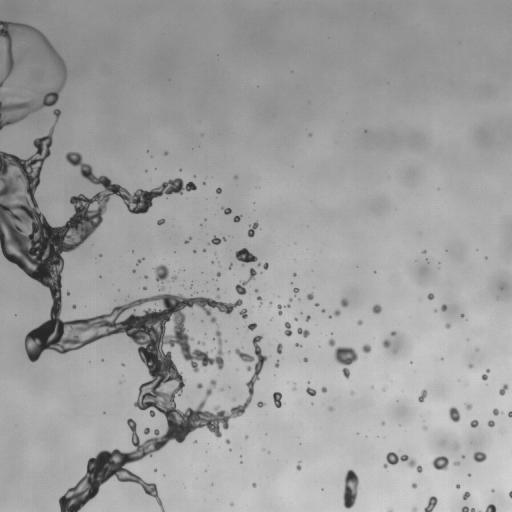droplet: (0, 20, 66, 129), (334, 346, 358, 378), (153, 264, 176, 282), (235, 248, 257, 265), (432, 456, 449, 470), (424, 496, 437, 511), (449, 406, 460, 422), (473, 451, 487, 462), (210, 236, 226, 245), (273, 392, 282, 407), (284, 321, 292, 336), (297, 327, 309, 337), (418, 389, 427, 402), (499, 384, 508, 395), (372, 304, 381, 314), (306, 387, 316, 396), (362, 344, 371, 353), (239, 308, 247, 318), (246, 323, 257, 330), (485, 504, 496, 511), (233, 214, 242, 222), (340, 298, 348, 307), (382, 339, 390, 348), (221, 207, 231, 214), (470, 419, 478, 427), (462, 491, 469, 500), (276, 343, 282, 353), (306, 292, 313, 300), (328, 339, 335, 346), (465, 403, 472, 410), (493, 408, 500, 415), (487, 420, 494, 427), (157, 219, 165, 225), (296, 461, 301, 470), (293, 288, 299, 295), (427, 293, 434, 299), (441, 304, 447, 311), (333, 310, 340, 316), (257, 401, 264, 407), (144, 427, 150, 434), (262, 263, 268, 269), (216, 188, 221, 194), (445, 323, 451, 328), (390, 331, 396, 336), (295, 342, 301, 347), (321, 387, 327, 392), (328, 406, 334, 411), (411, 483, 417, 488), (305, 315, 310, 320), (357, 320, 362, 325), (197, 383, 202, 388), (412, 506, 417, 511), (275, 361, 279, 367), (453, 461, 459, 465), (228, 263, 232, 268), (159, 286, 164, 290), (468, 363, 473, 367), (422, 426, 427, 430), (508, 411, 511, 417), (216, 272, 220, 276), (142, 286, 146, 290), (303, 357, 307, 361), (292, 386, 296, 390), (381, 421, 385, 425), (252, 483, 256, 487), (456, 484, 460, 488), (226, 439, 229, 444), (422, 250, 426, 253), (321, 309, 325, 312), (455, 445, 458, 449), (164, 151, 167, 154), (234, 175, 237, 178), (203, 249, 206, 252), (144, 275, 147, 278), (315, 303, 318, 306), (72, 305, 75, 308), (461, 314, 464, 317), (393, 350, 396, 353), (350, 391, 353, 394), (230, 502, 233, 505), (67, 291, 69, 295), (202, 182, 205, 184), (257, 263, 260, 265), (132, 270, 135, 272), (293, 273, 296, 275), (255, 289, 257, 292), (269, 302, 271, 305), (294, 318, 297, 320), (122, 363, 124, 366), (245, 435, 247, 438), (462, 455, 464, 458), (468, 473, 470, 476), (194, 250, 196, 252), (329, 316, 331, 318), (476, 349, 478, 351), (228, 351, 230, 353), (383, 388, 385, 390), (194, 441, 196, 443)
ligament: (0, 109, 263, 511), (383, 452, 422, 472), (343, 469, 359, 508), (235, 268, 256, 295), (247, 221, 258, 237), (461, 506, 481, 511), (481, 369, 489, 380), (277, 304, 283, 315), (285, 298, 292, 307), (257, 296, 262, 306), (185, 236, 192, 243), (136, 258, 144, 264), (197, 341, 205, 344), (509, 491, 511, 498), (387, 509, 393, 511)
